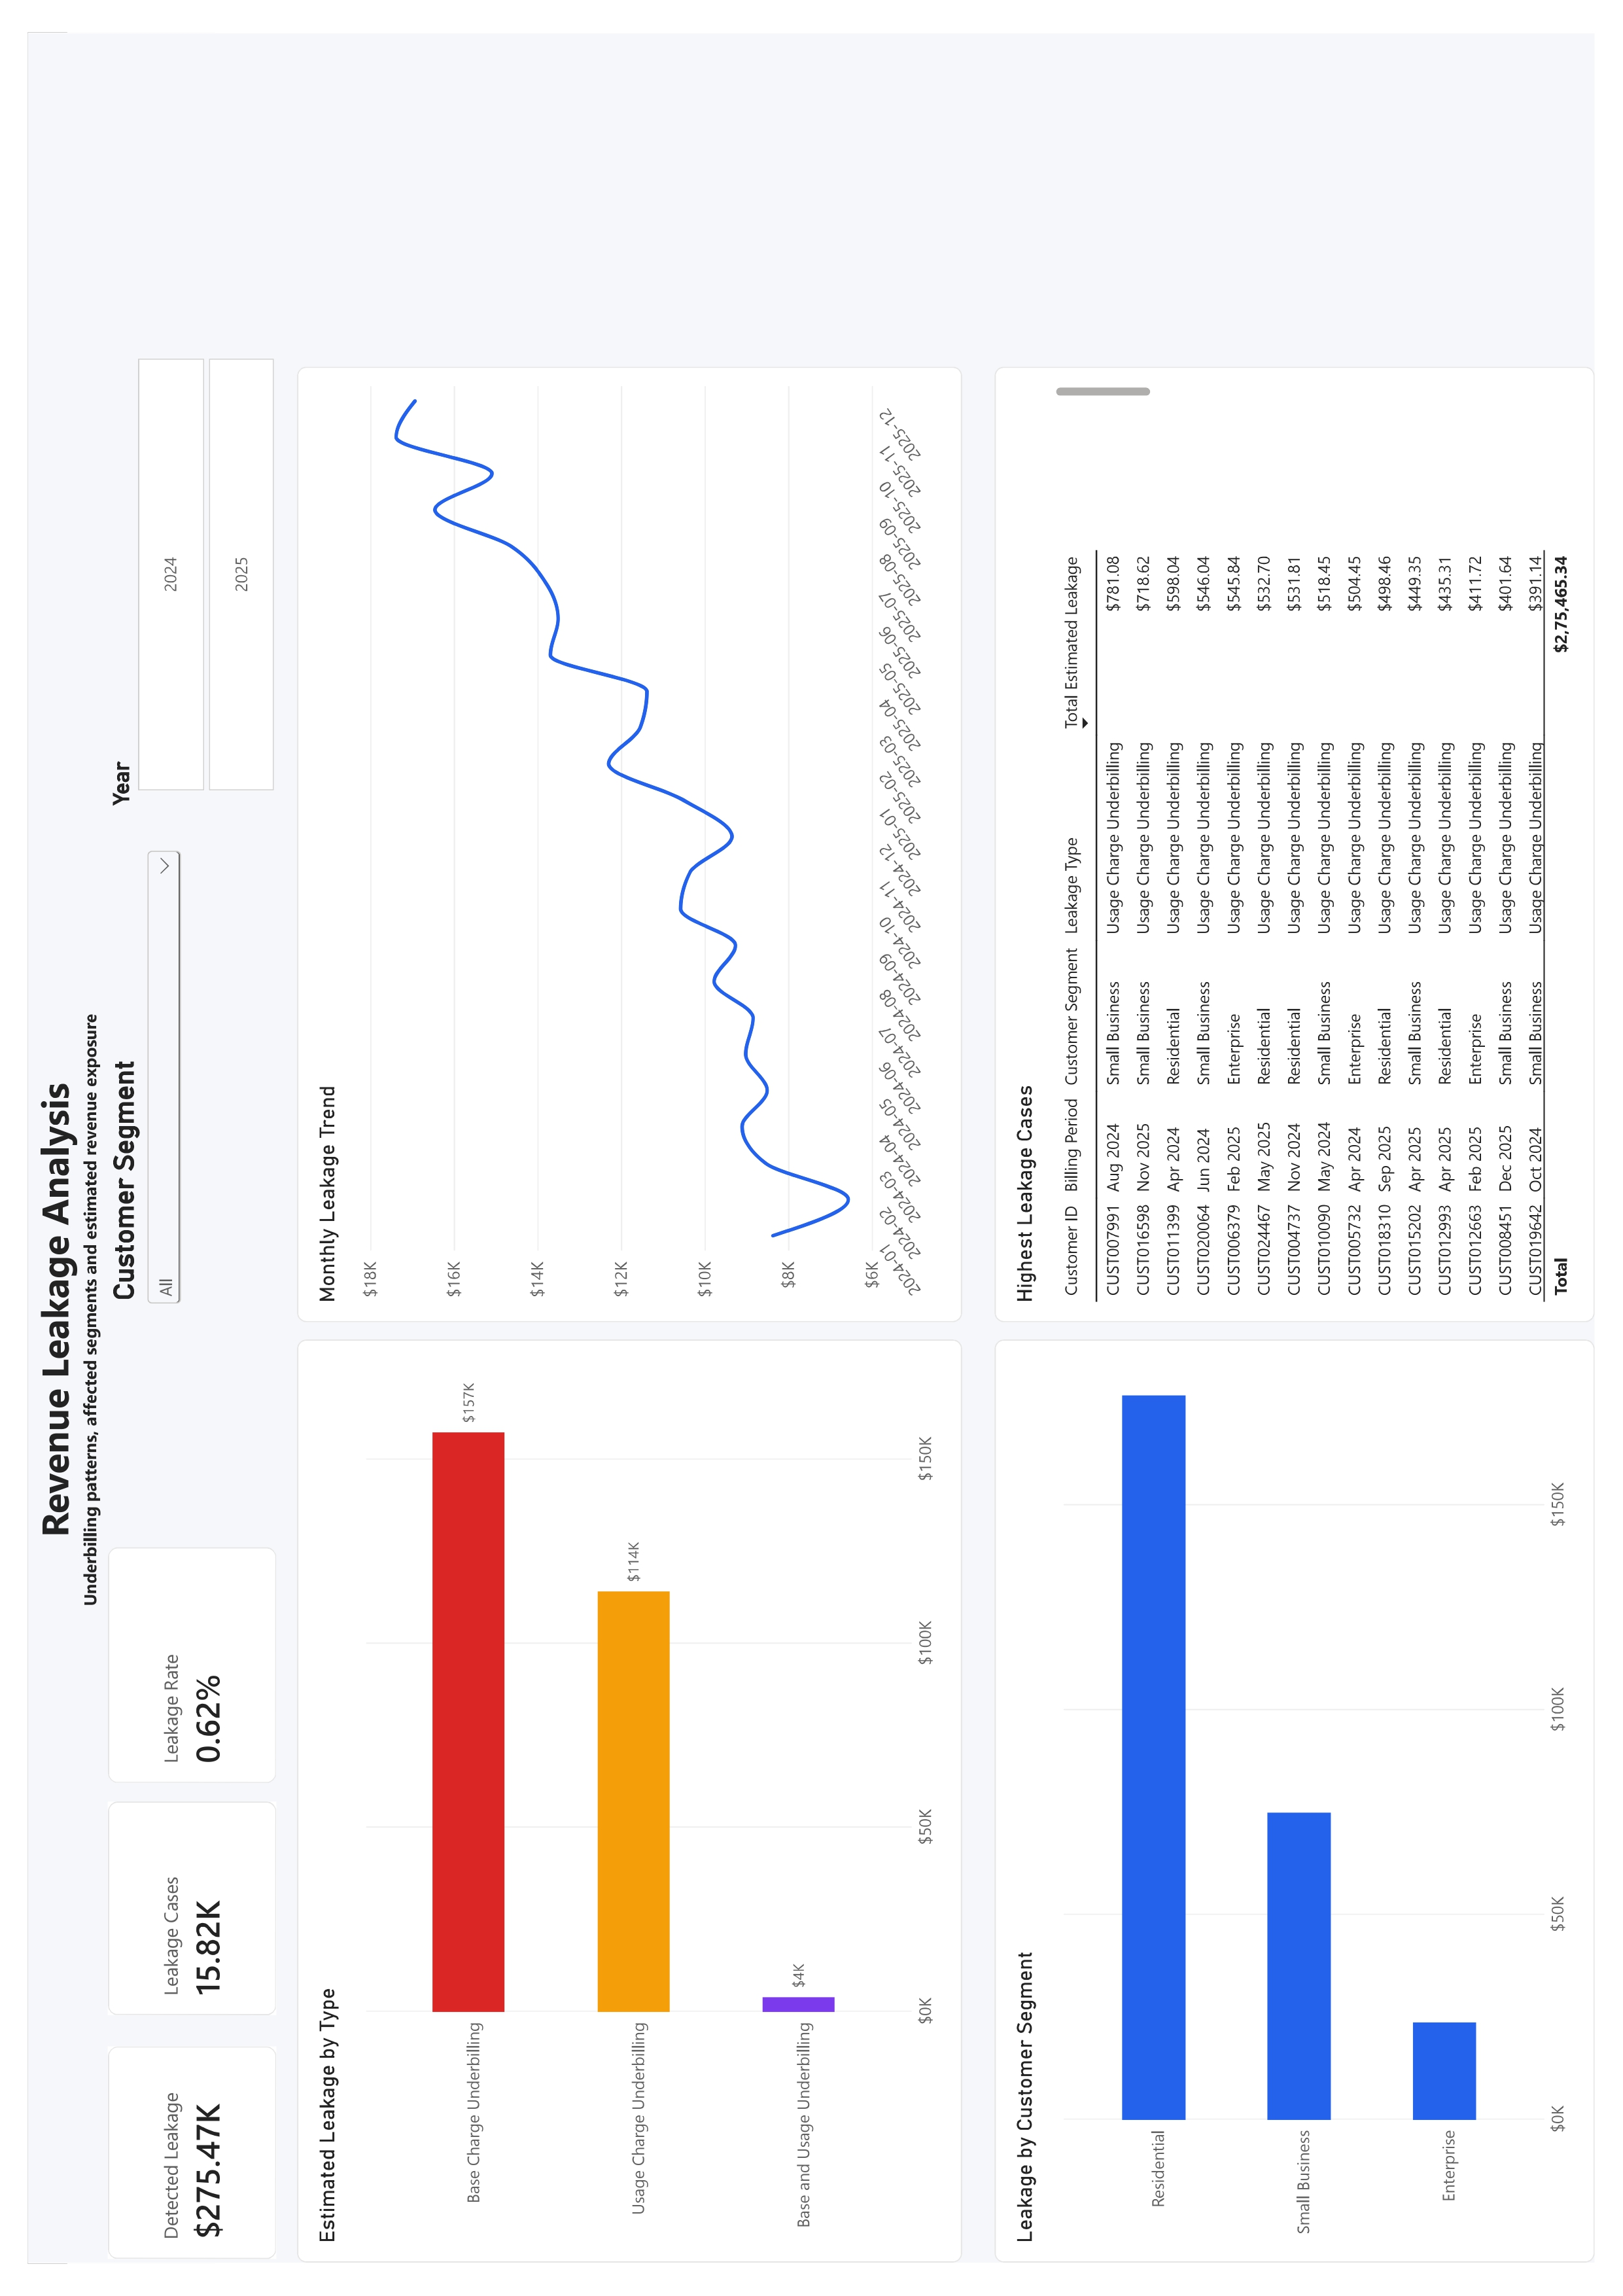

Layout of this report page (visuals, bound fields, positions):
{"tool":"powerbi","page":{"name":"Revenue Leakage","canvas":[1920,1350],"ordinal":1},"visuals":[{"type":"cardVisual","fields":{"Data":["Calendar.Detected Leakage"]},"box":[2.9,68.6,183.3,145],"z":0},{"type":"cardVisual","fields":{"Data":["Calendar.Leakage Cases"]},"box":[212.9,68.6,184.3,145.7],"z":1000},{"type":"clusteredBarChart","title":"Estimated Leakage by Type","fields":{"Category":["public vw_revenue_leakage.leakage_type"],"Y":["Sum(public vw_revenue_leakage.total_estimated_leakage)"]},"box":[0,231.7,795,573.3],"z":2000},{"type":"lineChart","title":"Monthly Leakage Trend","fields":{"Category":["Calendar.Year Month"],"Y":["KPI Measures.Detected Leakage"]},"box":[810,231.7,823.3,573.3],"z":3000},{"type":"clusteredBarChart","title":"Leakage by Customer Segment","fields":{"Category":["public vw_customer_risk.customer_segment"],"Y":["KPI Measures.Detected Leakage"]},"box":[0,833.3,795,516.7],"z":4000},{"type":"textbox","box":[0,0,1641.4,68.6],"z":5000},{"type":"slicer","fields":{"Values":["public vw_customer_risk.customer_segment"]},"box":[821.4,68.6,400,145.7],"z":6000},{"type":"slicer","title":"Year","fields":{"Values":["Calendar.Year"]},"box":[1247.1,68.6,411.4,145.7],"z":7000},{"type":"cardVisual","fields":{"Data":["KPI Measures.Leakage Rate"]},"box":[412.9,68.6,202.9,145.7],"z":8000},{"type":"tableEx","title":"Highest Leakage Cases","fields":{"Values":["public vw_customer_risk.customer_id","public vw_invoice_financials.billing_period_start","public vw_customer_risk.customer_segment","public vw_revenue_leakage.leakage_type","Sum(public vw_revenue_leakage.total_estimated_leakage)"]},"box":[810,833.3,823.3,516.7],"z":9000}]}

Visuals, with their boxes on the page's 1920x1350 design canvas (x1, y1, x2, y2). These are canvas units, not pixel positions in the 1623x2296 screenshot, which may show the page scaled, cropped or inside an application window:
cardVisual - Calendar.Detected Leakage: bbox=[3, 69, 186, 214]
cardVisual - Calendar.Leakage Cases: bbox=[213, 69, 397, 214]
"Estimated Leakage by Type" clusteredBarChart: bbox=[0, 232, 795, 805]
"Monthly Leakage Trend" lineChart: bbox=[810, 232, 1633, 805]
"Leakage by Customer Segment" clusteredBarChart: bbox=[0, 833, 795, 1350]
textbox: bbox=[0, 0, 1641, 69]
slicer - public vw_customer_risk.customer_segment: bbox=[821, 69, 1221, 214]
"Year" slicer: bbox=[1247, 69, 1658, 214]
cardVisual - KPI Measures.Leakage Rate: bbox=[413, 69, 616, 214]
"Highest Leakage Cases" tableEx: bbox=[810, 833, 1633, 1350]
